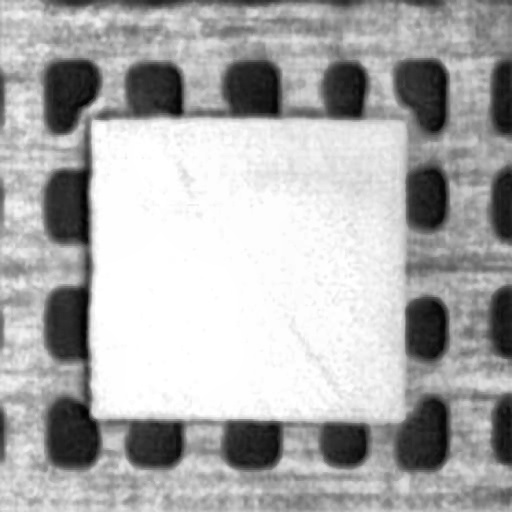DIE_CRACK: (270, 302, 344, 399)
